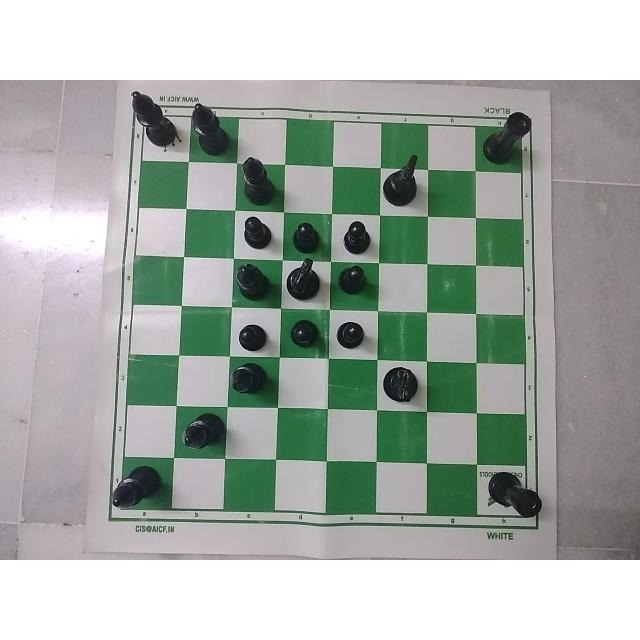black-bishop: (121, 85, 176, 152), (106, 459, 161, 519), (191, 91, 231, 159), (235, 153, 285, 205), (224, 354, 272, 406), (223, 255, 270, 307), (177, 408, 222, 458)
black-knight: (374, 154, 434, 214), (377, 359, 428, 409), (280, 257, 327, 303)
black-pawn: (230, 212, 272, 253), (231, 313, 271, 355), (287, 308, 325, 348), (334, 261, 373, 299), (286, 214, 323, 254), (331, 316, 373, 350), (342, 215, 370, 253)
black-rook: (480, 104, 541, 166), (483, 468, 544, 520)
